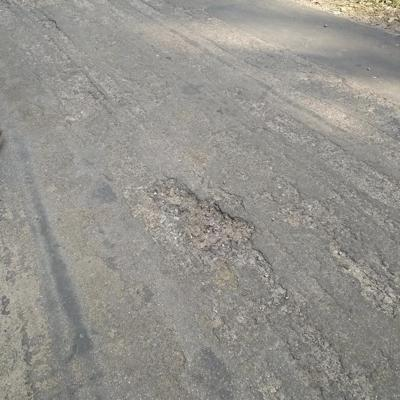Pothole: (126, 167, 293, 304)
